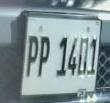0: (78, 31, 90, 80)
1: (55, 30, 69, 81), (87, 34, 98, 77)
4: (67, 31, 80, 81)
P: (38, 29, 53, 85), (27, 28, 41, 86)
